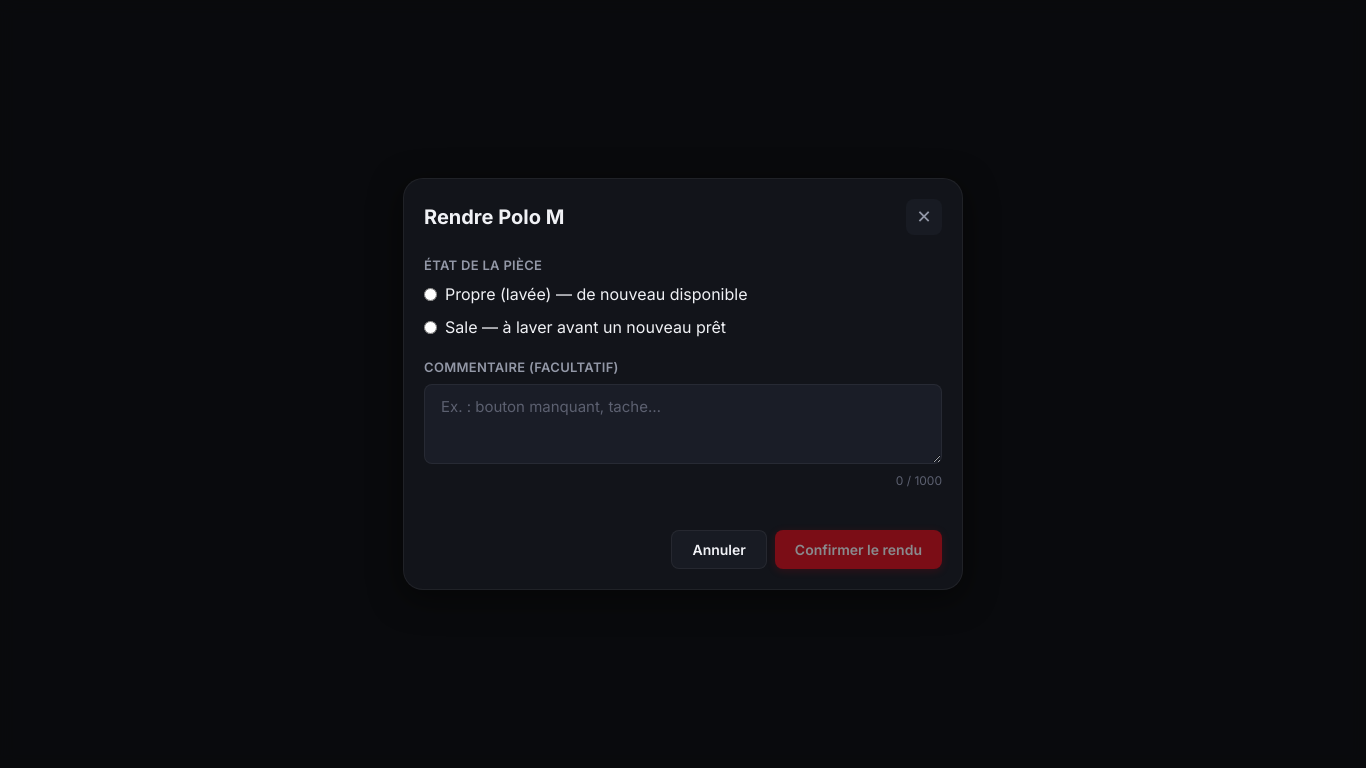
ReturnUniformModal › sur une autre erreur, ne notifie pas
Click the radio button labelled "Propre (lavée) — de nouveau disponible" at x=430, y=294, box top-left (424, 288), bottom-right (437, 301)
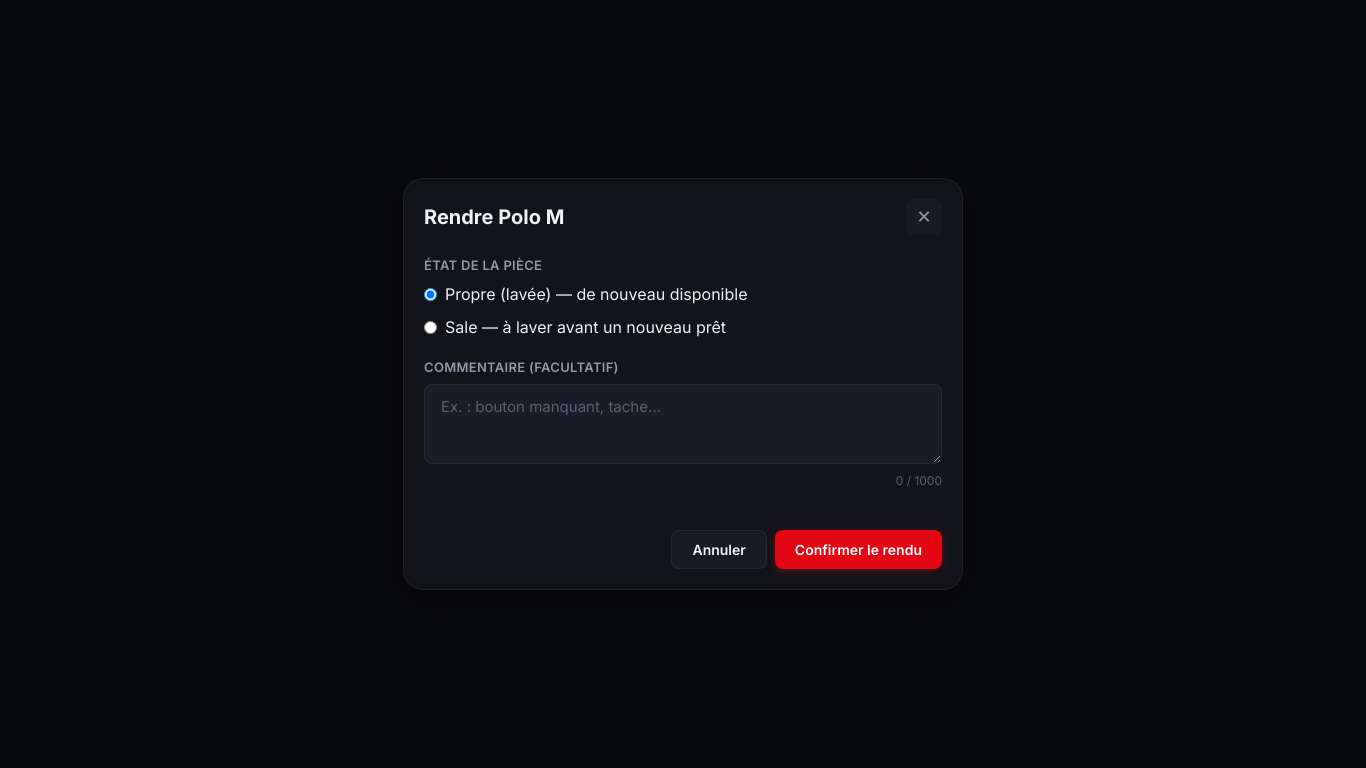
Click the button "Confirmer le rendu" at x=858, y=550, box top-left (775, 530), bottom-right (942, 569)
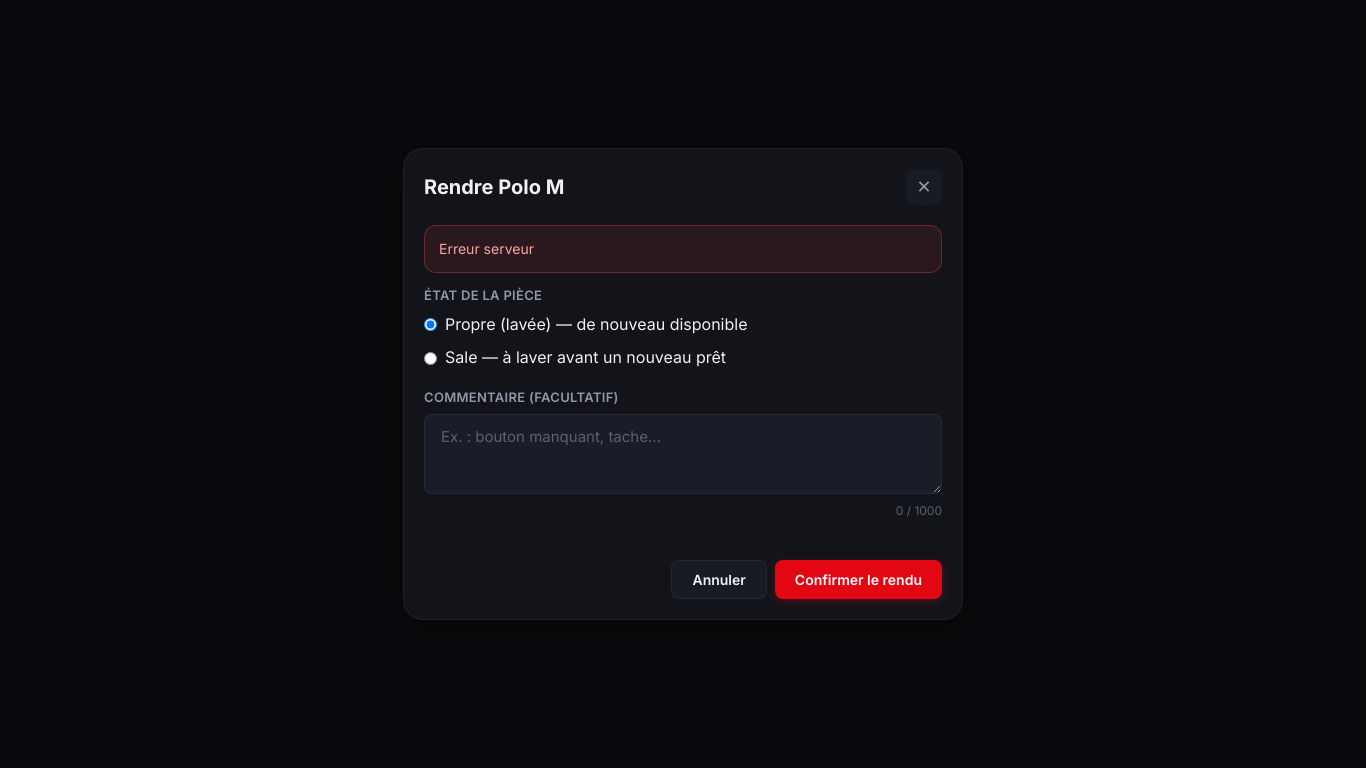
Check: the message "Erreur serveur" is shown, box top-left (424, 224), bottom-right (942, 273)
